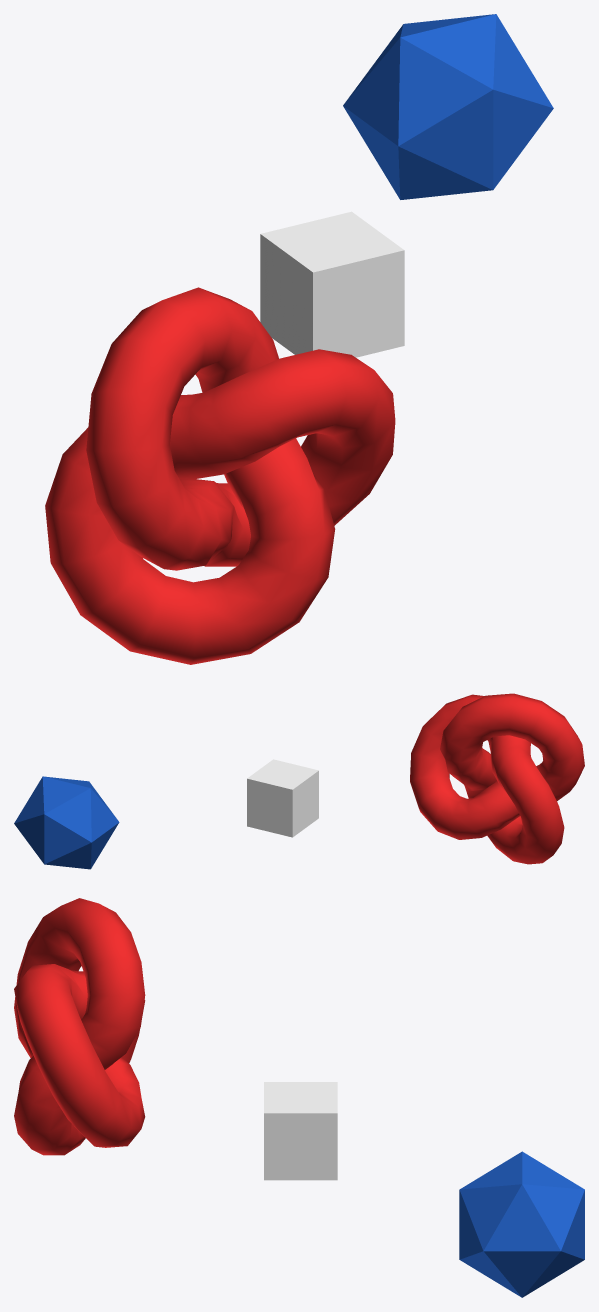
The picture shows the model from 3 angles, top to bottom: view 1: azimuth 30°, elevation 25°; view 2: azimuth 150°, elevation 25°; view 3: azimuth 270°, elevation 25°; orthographic projection. The views are drawn at different scales.
Size of the model in its own units: 8.39 by 3.6 by 7.74.
